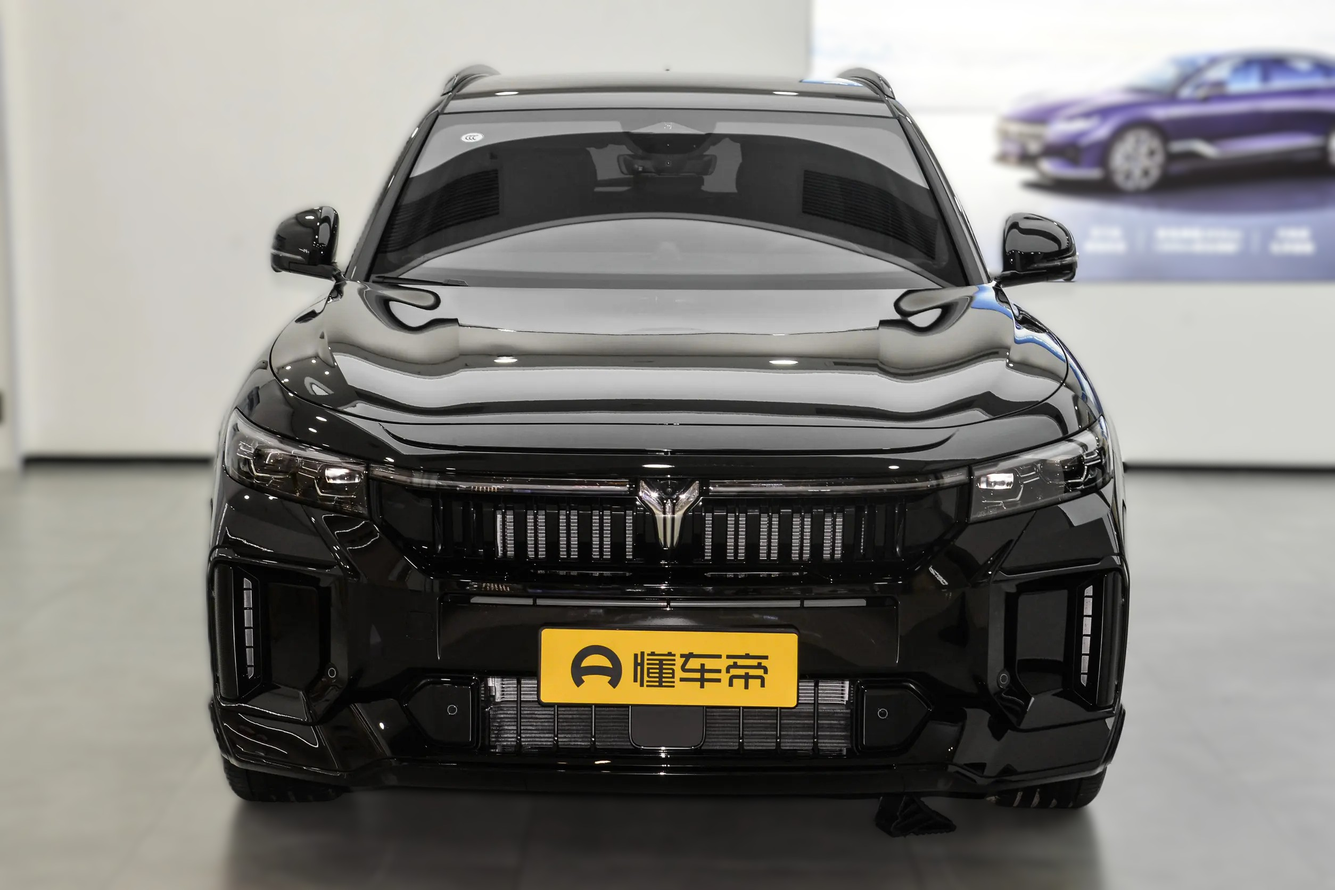VOYAH: (640, 481, 698, 547)
